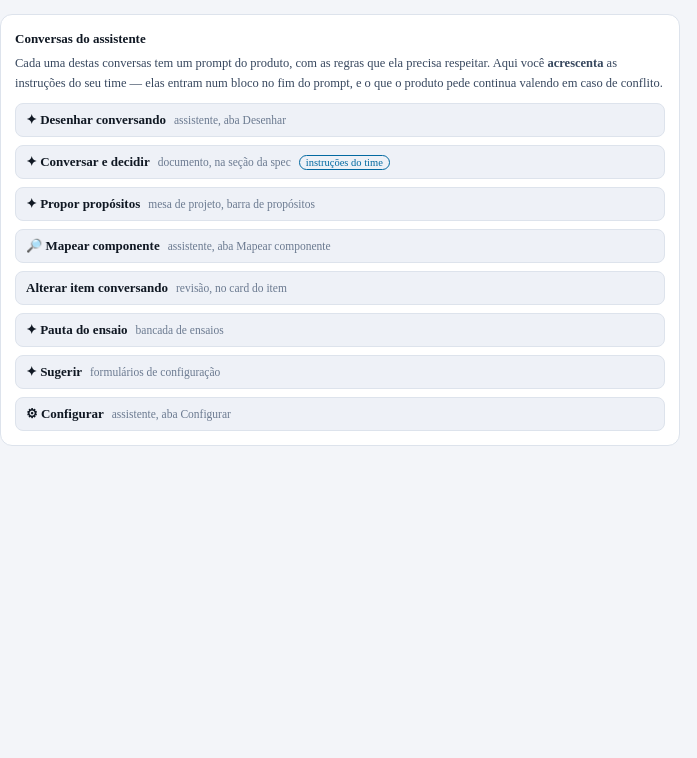
Scenario: as conversas do assistente na tela (SPEC-117) › o que o time escreveu vira o valor do campo, e a tela marca quem foi personalizada
Expected: the text "instruções do time" is shown, [299,154,390,170]
Click the button "Conversar e decidir".
click(340, 162)  # box [26,154,654,170]
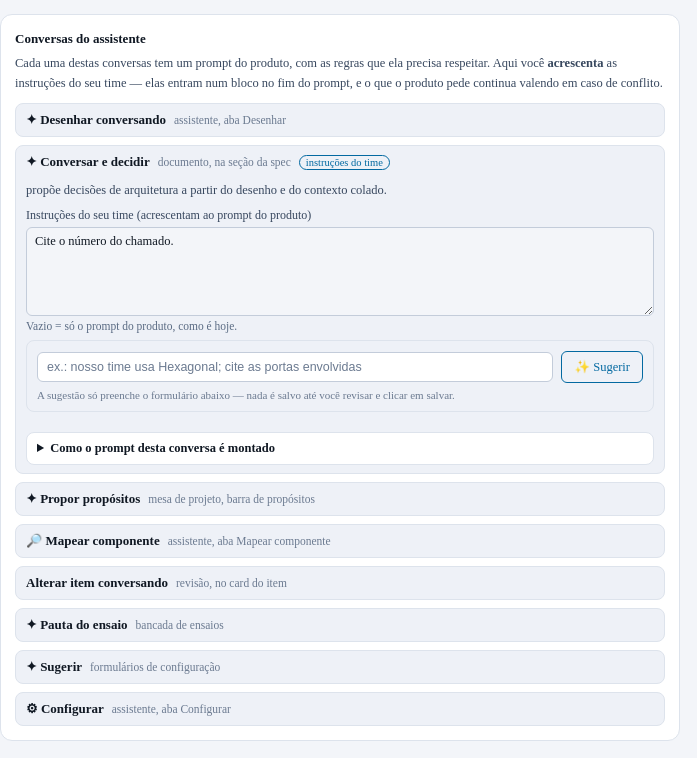
Result: the text box with test id "preambulo-conversa-decisoes" holds "Cite o número do chamado." at [26,227,654,316]
